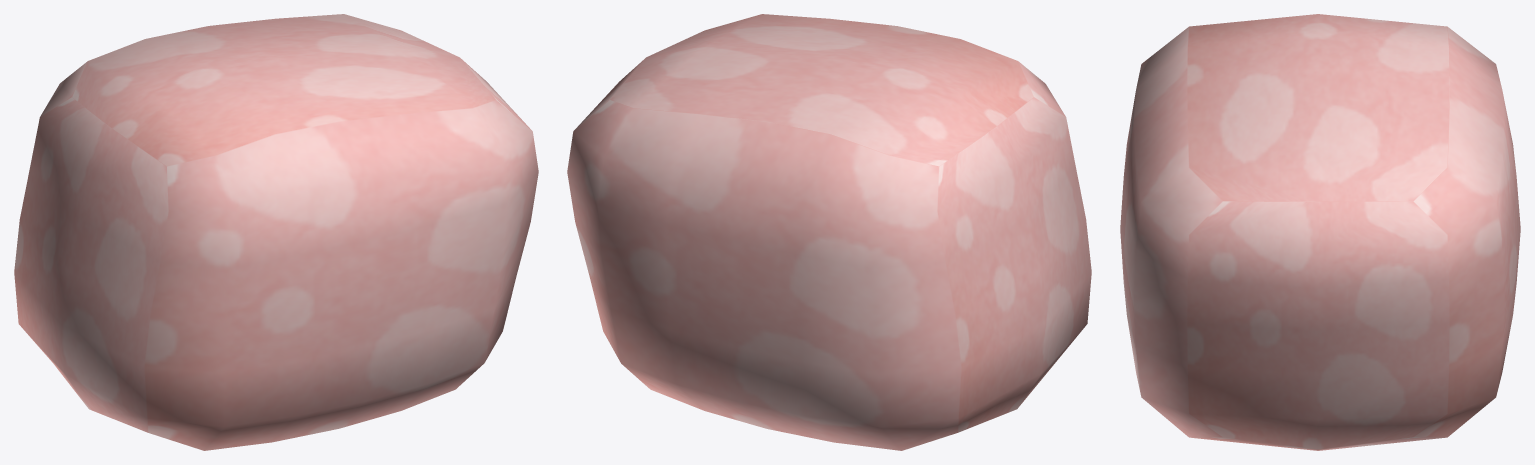
File: namakara.FBX
3 views of the same model, side by side, from view 1: azimuth 30°, elevation 25°; view 2: azimuth 150°, elevation 25°; view 3: azimuth 270°, elevation 25° (orthographic).
Visible parts, largest first — view 1: Box001; view 2: Box001; view 3: Box001.
Part boxes in pixels (box(x1,y1,x2,y2)): Box001: box(14, 14, 538, 450); Box001: box(567, 14, 1091, 450); Box001: box(1120, 14, 1520, 450).
Size of the model in its own units: 7.37 by 5.9 by 5.54.
1 material, 1 textured.
